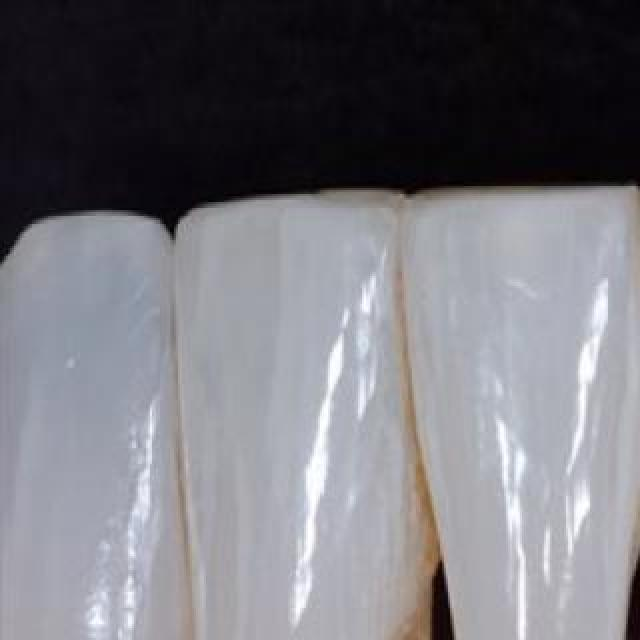spacing: (398, 558, 492, 640), (610, 518, 640, 640)
stains: (322, 600, 446, 640)
